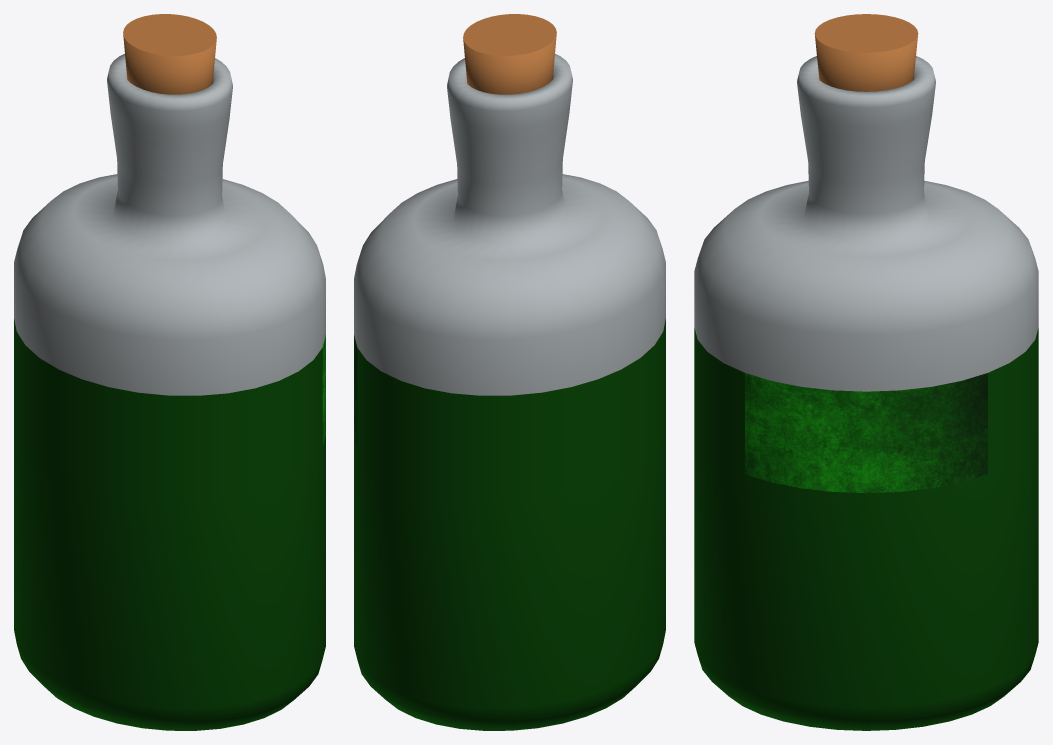
Rendered from potionGreen.fbx.
3 views of the same model, side by side, from view 1: azimuth 30°, elevation 25°; view 2: azimuth 150°, elevation 25°; view 3: azimuth 270°, elevation 25° (orthographic).
Parts seen in each view (by area): view 1: Cylinder.001, Cylinder.018, Cylinder.001_Cylinder.002; view 2: Cylinder.001, Cylinder.018, Cylinder.001_Cylinder.002; view 3: Cylinder.001, Cylinder.018, Cylinder.001_Cylinder.002.
Boxes of the visible parts, x1=… form: Cylinder.001: x1=14, y1=318, x2=325, y2=730; Cylinder.018: x1=14, y1=53, x2=325, y2=395; Cylinder.001_Cylinder.002: x1=123, y1=14, x2=216, y2=94; Cylinder.001: x1=354, y1=318, x2=665, y2=730; Cylinder.018: x1=354, y1=53, x2=665, y2=395; Cylinder.001_Cylinder.002: x1=463, y1=14, x2=556, y2=94; Cylinder.001: x1=694, y1=328, x2=1038, y2=730; Cylinder.018: x1=694, y1=56, x2=1038, y2=391; Cylinder.001_Cylinder.002: x1=814, y1=14, x2=918, y2=91.
Size of the model in its own units: 205 by 475 by 231.
3 materials, 1 textured.
